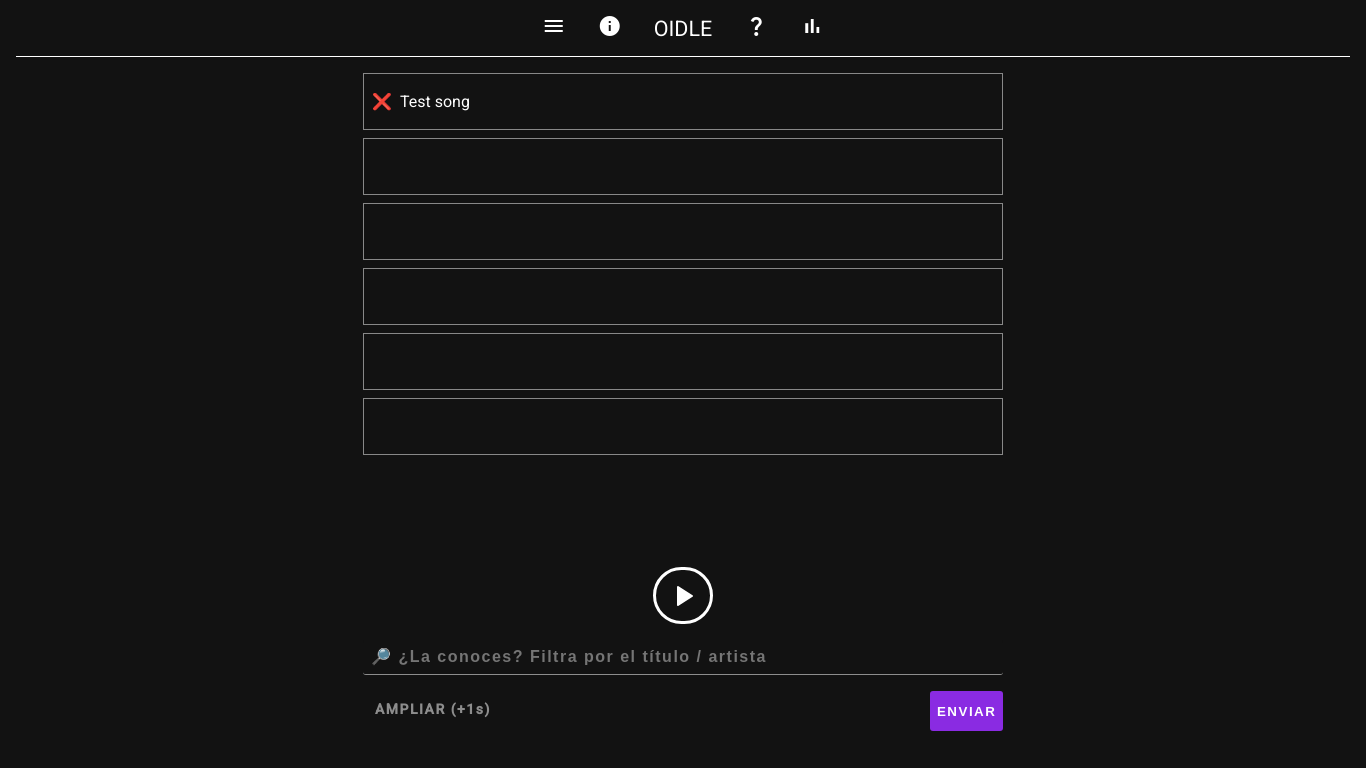
Test: Oidle page › extends time
This screenshot has width=1366, height=768.
Step 1. Click the button "AMPLIAR (+1s)" → {"x": 433, "y": 709}, box [367, 691, 499, 727]
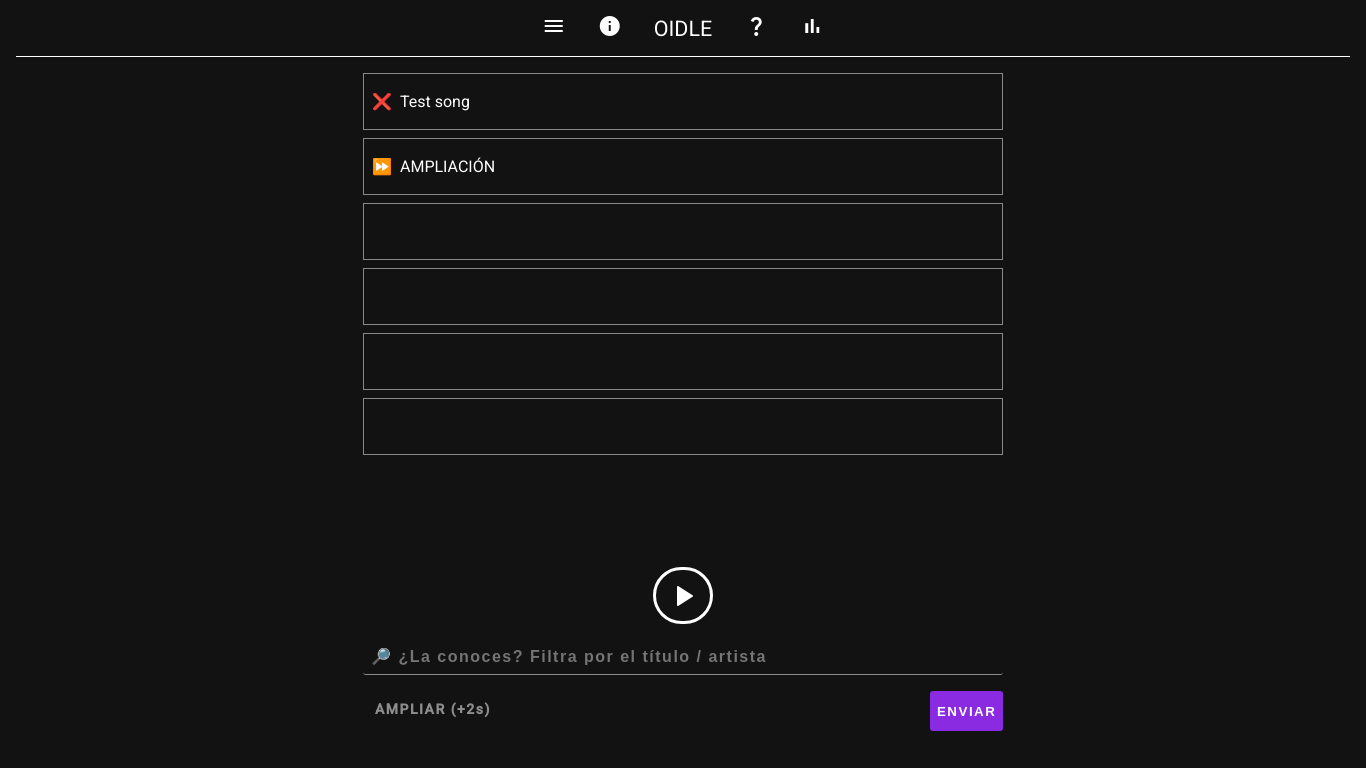
Now the text "❌ Test song ⏩ AMPLIACIÓN AMPLIAR (+2s) ENVIAR" is shown, box [363, 73, 1003, 731]
